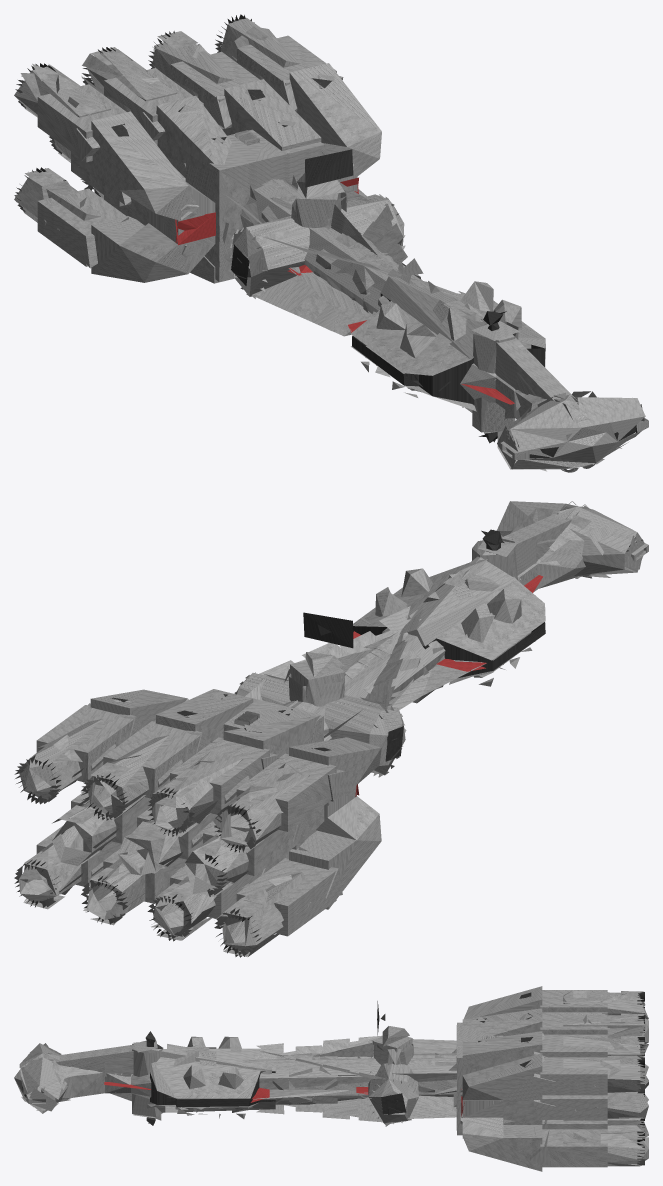
3 views of the same model, one above another, from view 1: azimuth 30°, elevation 25°; view 2: azimuth 150°, elevation 25°; view 3: azimuth 270°, elevation 25° (orthographic). The views are drawn at different scales.
Parts seen in each view (by area): view 1: BackTube_0, BackTube_1, HullPlates_0; view 2: BackTube_0, BackTube_1; view 3: BackTube_0, BackTube_1, HullPlates_0.
Part boxes in pixels (left/top/right/bottom): BackTube_0: left=14, top=18, right=648, bottom=472; BackTube_1: left=15, top=14, right=637, bottom=458; HullPlates_0: left=175, top=177, right=514, bottom=404; BackTube_0: left=19, top=501, right=648, bottom=956; BackTube_1: left=14, top=529, right=630, bottom=957; BackTube_0: left=14, top=986, right=648, bottom=1171; BackTube_1: left=22, top=992, right=644, bottom=1164; HullPlates_0: left=104, top=1082, right=464, bottom=1116.
Size of the model in its own units: 47.61 by 32.38 by 150.
3 materials, 3 textured.
